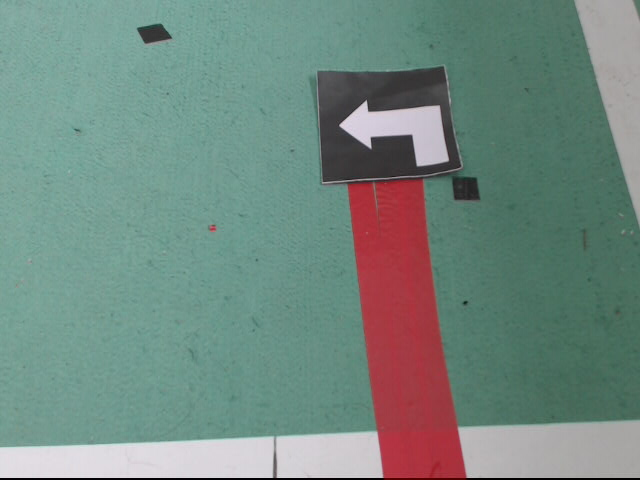left: (315, 64, 464, 185)
